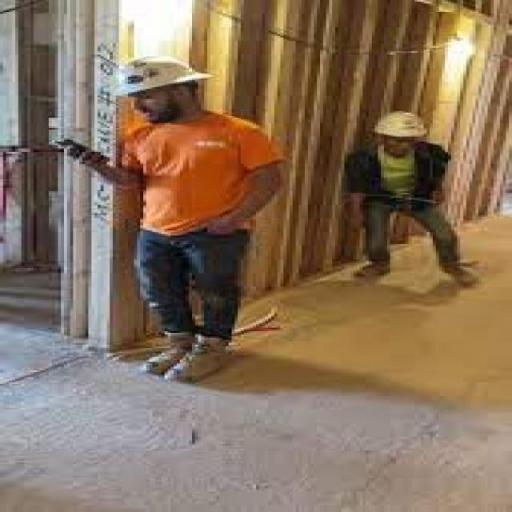helmet: (102, 54, 216, 99), (364, 107, 438, 144)
